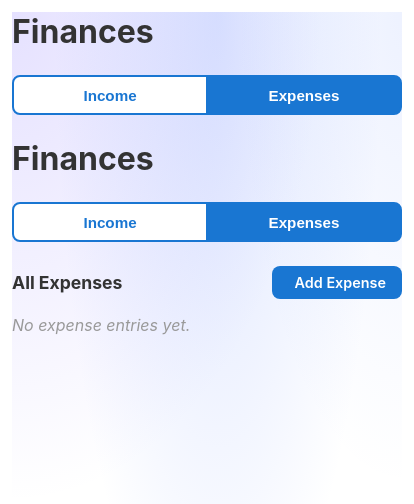
FinancesView › switches to income tab on click
Click the 1st button "Income".
click(110, 95)  # box [12,75,207,115]
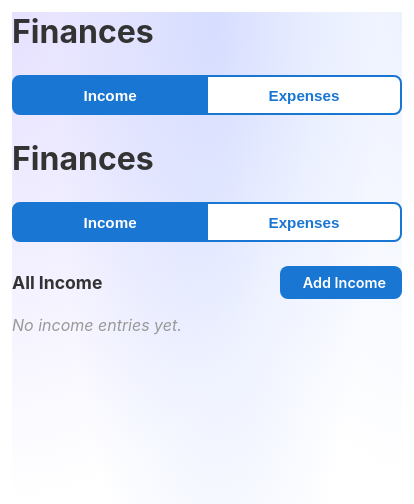
expect the text "All Income" is shown: met, box [12,272,102,293]
